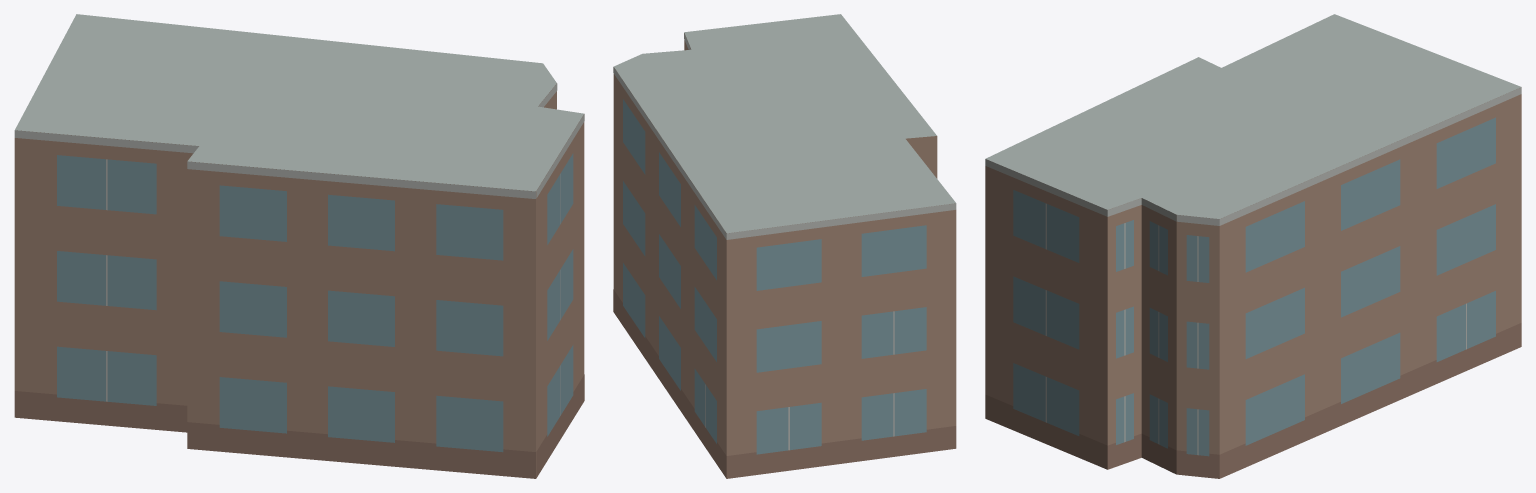
The model's file is survey-upis-32681317.glb.
3 renders of one model, left to right at view 1: azimuth 30°, elevation 25°; view 2: azimuth 150°, elevation 25°; view 3: azimuth 270°, elevation 25°, orthographic. The views are drawn at different scales.
Parts seen in each view (by area): view 1: survey-upis-32681317.tmp; view 2: survey-upis-32681317.tmp; view 3: survey-upis-32681317.tmp.
Boxes of the visible parts, box(x1,y1,x2,y2) form: survey-upis-32681317.tmp: box(14, 14, 584, 478); survey-upis-32681317.tmp: box(613, 14, 956, 478); survey-upis-32681317.tmp: box(985, 14, 1521, 478).
Size of the model in its own units: 15.41 by 9.1 by 17.04.
